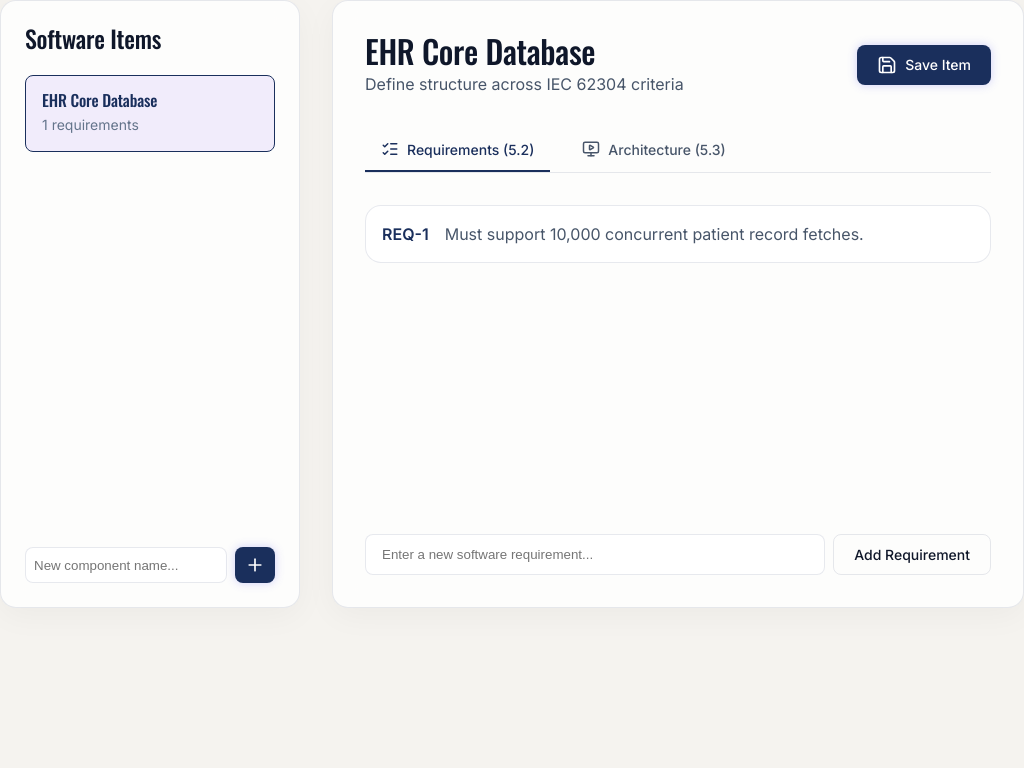
Test case: SoftwareArchitecture component › arch.react.02: switching to architecture tab shows textarea
Click the button "Architecture (5.3)" at (654, 150), box [566, 128, 742, 172]
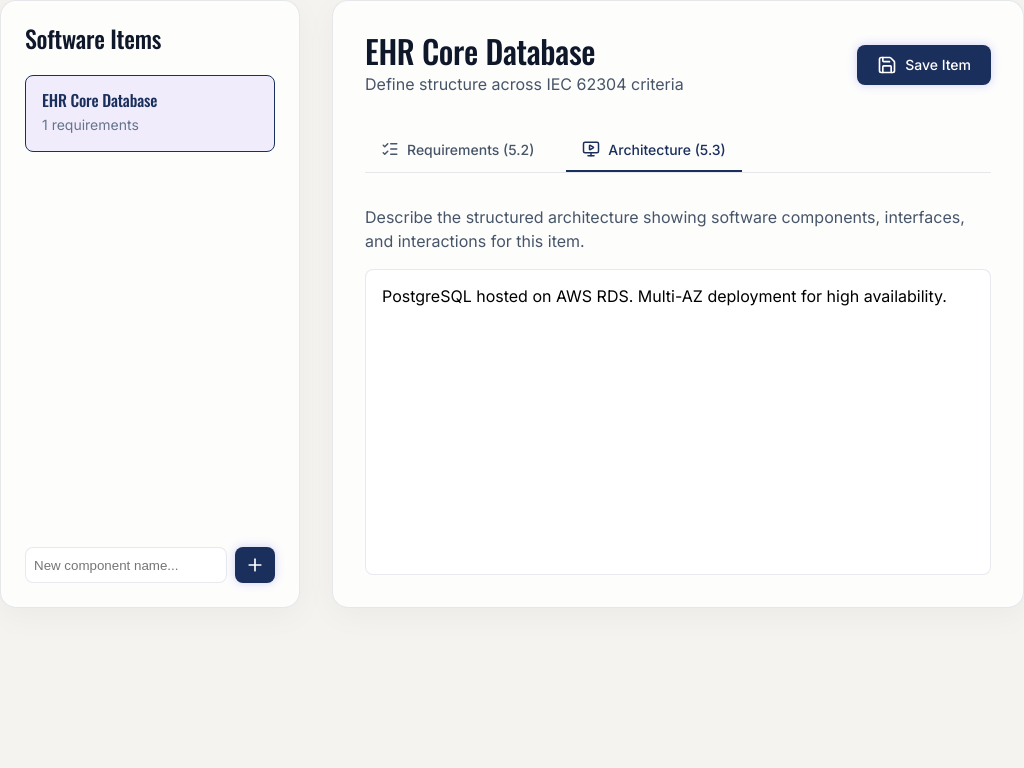
Result: the text box with placeholder "microservices backend" is shown at [365, 269, 991, 575]
